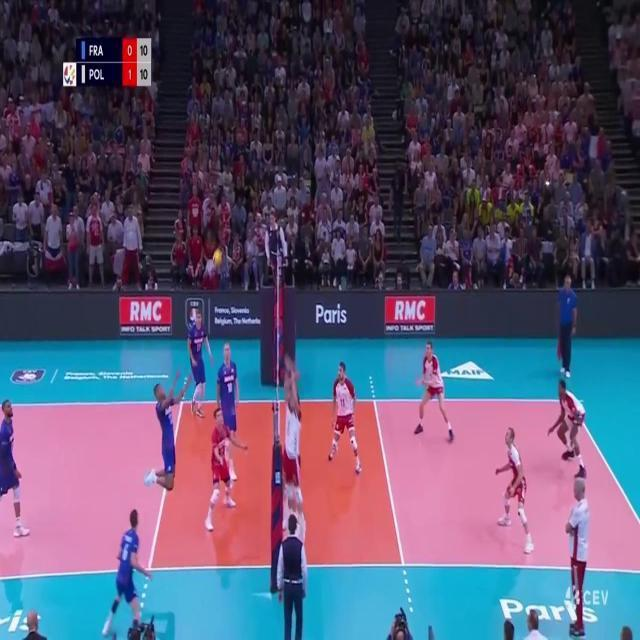volleyball: (212, 248, 224, 266)
